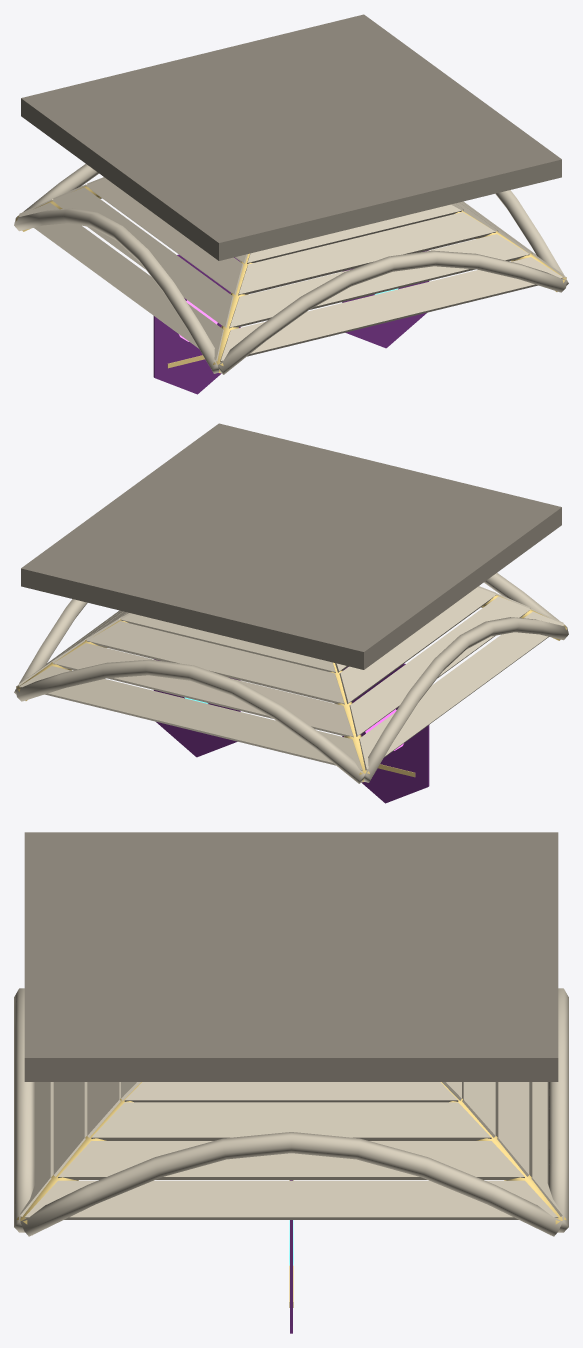
The model's file is ceil_bb_banner.glb.
3 views of the same model, one above another, from view 1: azimuth 30°, elevation 25°; view 2: azimuth 150°, elevation 25°; view 3: azimuth 270°, elevation 25° (orthographic). The views are drawn at different scales.
Parts seen in each view (by area): view 1: ceil_bb_banner; view 2: ceil_bb_banner; view 3: ceil_bb_banner.
Boxes of the visible parts, bbox=[...] form: ceil_bb_banner: bbox=[14, 14, 568, 394]; ceil_bb_banner: bbox=[14, 423, 568, 803]; ceil_bb_banner: bbox=[14, 832, 568, 1333].
Size of the model in its own units: 4.16 by 2.7 by 4.16.
